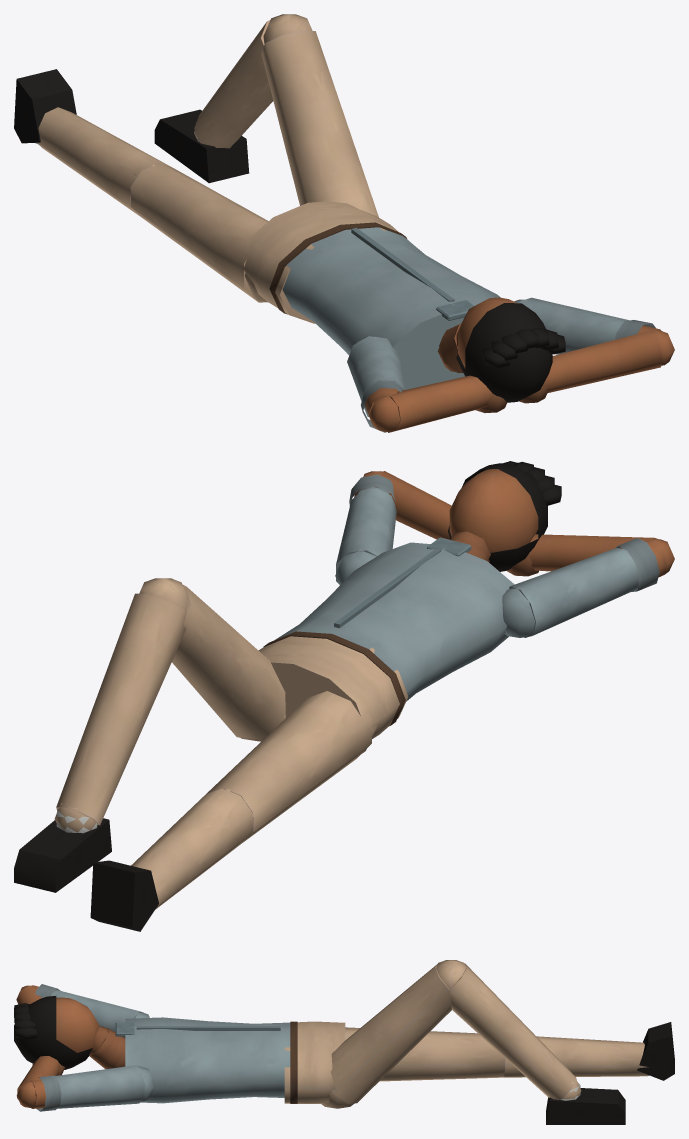
File: figure-lying.glb
3 views of the same model, one above another, from view 1: azimuth 30°, elevation 25°; view 2: azimuth 150°, elevation 25°; view 3: azimuth 270°, elevation 25° (orthographic). The views are drawn at different scales.
Parts seen in each view (by area): view 1: figure; view 2: figure; view 3: figure.
Boxes of the visible parts, x1,y1,x2,y2 form: figure: (14, 14, 674, 432); figure: (14, 461, 674, 931); figure: (14, 960, 674, 1124).
Bounding box in the file's own units: 0.6722 × 0.4528 × 1.74.
Materials: 1 (1 with a texture image).
